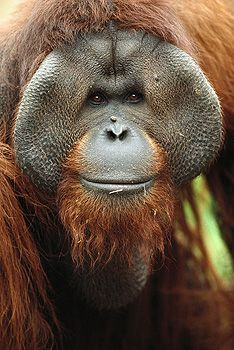Orangutan: (10, 8, 220, 326)
